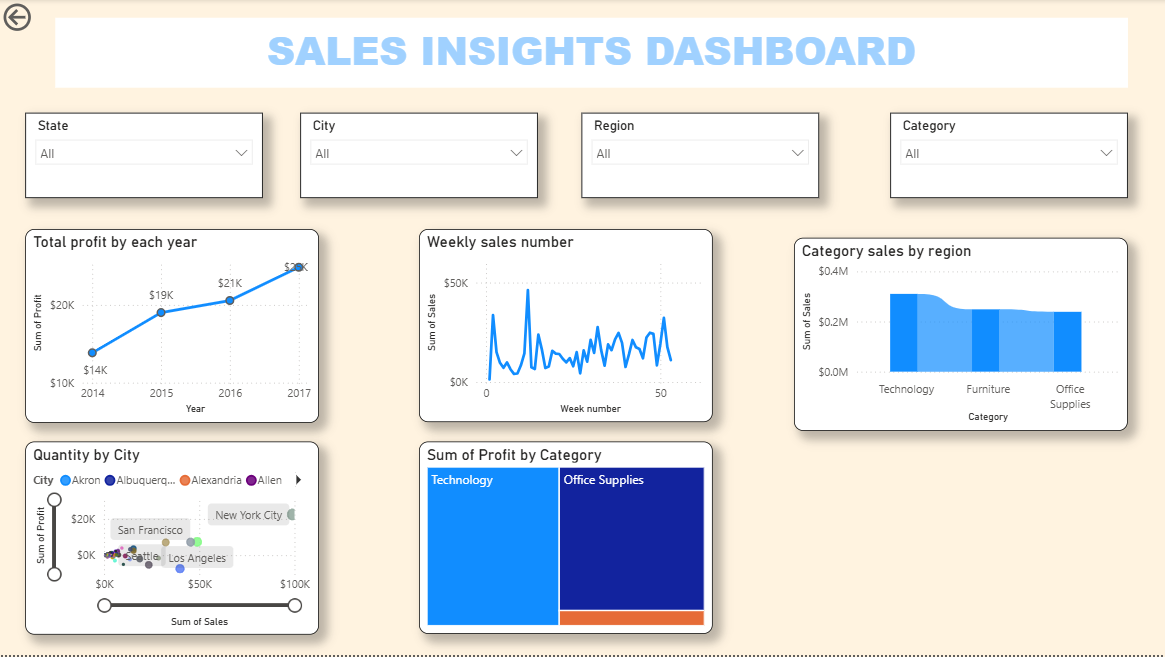

Layout of this report page (visuals, bound fields, positions):
{"tool":"powerbi","page":{"name":"Report 3","canvas":[1280,720],"ordinal":2},"visuals":[{"type":"slicer","fields":{"Values":["Project 2 Data.State"]},"box":[28.8,124.9,260.7,93.3],"z":0},{"type":"slicer","fields":{"Values":["Project 2 Data.City"]},"box":[330.7,124.9,260.7,93.3],"z":1000},{"type":"slicer","fields":{"Values":["Project 2 Data.Region"]},"box":[639.5,124.9,260.7,93.3],"z":2000},{"type":"slicer","fields":{"Values":["Project 2 Data.Category"]},"box":[978.4,124.9,260.7,93.3],"z":3000},{"type":"lineChart","title":"Total profit by each year","fields":{"Y":["Sum(Project 2 Data.Profit)"],"Category":["Project 2 Data.Order Date.Variation.Date Hierarchy.Year","Project 2 Data.Order Date.Variation.Date Hierarchy.Month"]},"box":[28.8,252.5,322.5,212.7],"z":4000},{"type":"lineChart","title":" Weekly sales number","fields":{"Y":["Sum(Project 2 Data.Sales)"],"Category":["Project 2 Data.Week number"]},"box":[461.1,252.5,322.5,212],"z":5000},{"type":"ribbonChart","title":" Category sales by region","fields":{"Category":["Project 2 Data.Category"],"Y":["Sum(Project 2 Data.Sales)"]},"box":[872.7,262.1,366.4,212],"z":6000},{"type":"scatterChart","title":"Quantity by City","fields":{"X":["Sum(Project 2 Data.Sales)"],"Y":["Sum(Project 2 Data.Profit)"],"Size":["Sum(Project 2 Data.Quantity)"],"Series":["Project 2 Data.City"]},"box":[28.8,485.8,322,212],"z":7000},{"type":"treemap","fields":{"Group":["Project 2 Data.Category"],"Values":["Sum(Project 2 Data.Profit)"]},"box":[461.1,485.8,322.5,211.3],"z":8000},{"type":"actionButton","box":[0,0,100,40],"z":9000},{"type":"textbox","box":[61.7,20.6,1177.4,76.8],"z":10000}]}

Visuals, with their boxes in screenshot pixels (x1, y1, x2, y2), scaled from the page's 1280x720 canvas onto the 1165x657 screenshot:
slicer - Project 2 Data.State: (left=26, top=114, right=263, bottom=199)
slicer - Project 2 Data.City: (left=301, top=114, right=538, bottom=199)
slicer - Project 2 Data.Region: (left=582, top=114, right=819, bottom=199)
slicer - Project 2 Data.Category: (left=890, top=114, right=1128, bottom=199)
"Total profit by each year" lineChart: (left=26, top=230, right=320, bottom=424)
" Weekly sales number" lineChart: (left=420, top=230, right=713, bottom=424)
" Category sales by region" ribbonChart: (left=794, top=239, right=1128, bottom=433)
"Quantity by City" scatterChart: (left=26, top=443, right=319, bottom=637)
treemap - Project 2 Data.Category x Sum(Project 2 Data.Profit): (left=420, top=443, right=713, bottom=636)
actionButton: (left=0, top=0, right=91, bottom=36)
textbox: (left=56, top=19, right=1128, bottom=89)
